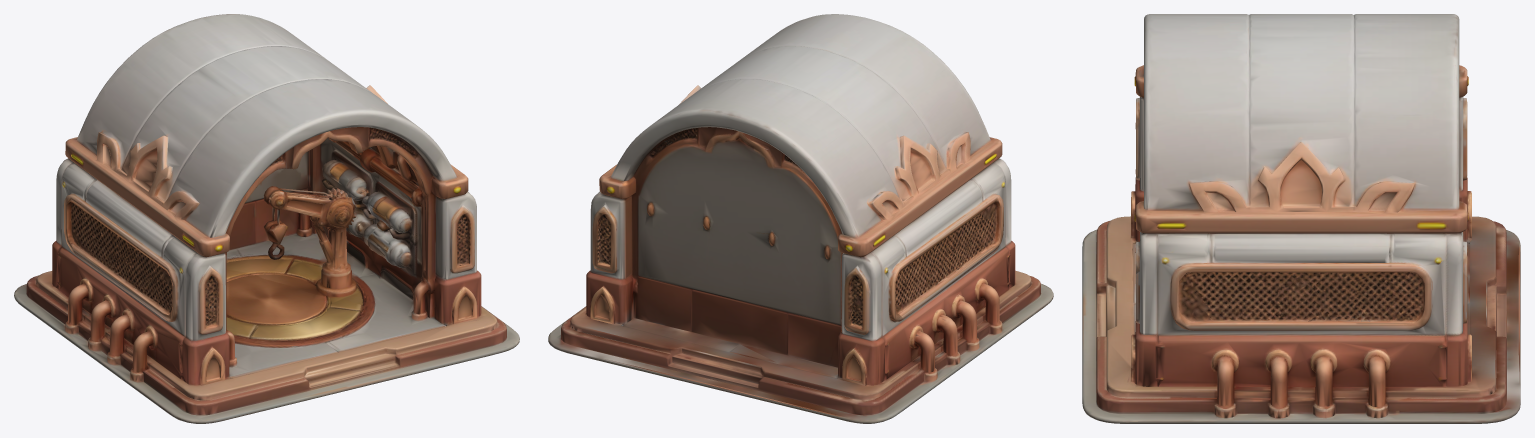
The model's file is vehicle_bay.glb.
3 renders of one model, left to right at view 1: azimuth 30°, elevation 25°; view 2: azimuth 150°, elevation 25°; view 3: azimuth 270°, elevation 25°, orthographic. The views are drawn at different scales.
Parts seen in each view (by area): view 1: node_0; view 2: node_0; view 3: node_0.
Boxes of the visible parts, left/top/right/bottom form: node_0: left=14, top=14, right=519, bottom=423; node_0: left=548, top=14, right=1053, bottom=423; node_0: left=1082, top=14, right=1520, bottom=423.
Size of the model in its own units: 0.809 by 0.5709 by 0.7666.
Materials: 1 (1 with a texture image).
